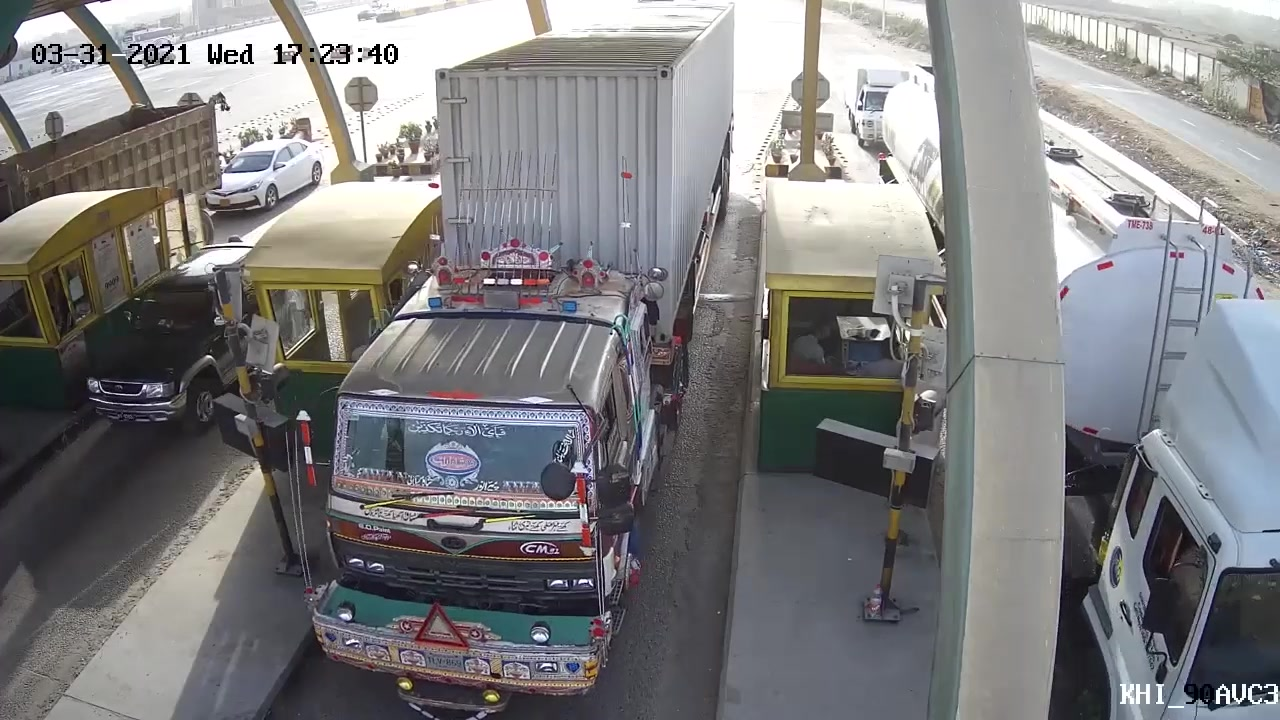F6: (305, 5, 745, 712)
